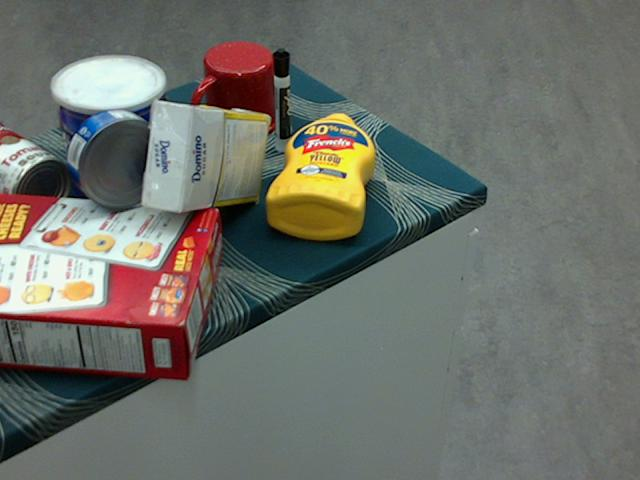cracker_box: (0, 192, 221, 378)
large_marker: (273, 47, 290, 152)
master_chef_can: (52, 56, 172, 234)
mug: (188, 42, 280, 139)
mustard_bottle: (266, 112, 376, 239)
potted_meat_can: (74, 89, 169, 172)
sugar_box: (142, 103, 268, 214)
tomato_soup_can: (0, 119, 70, 218)
tuna_fish_can: (66, 108, 170, 210)
